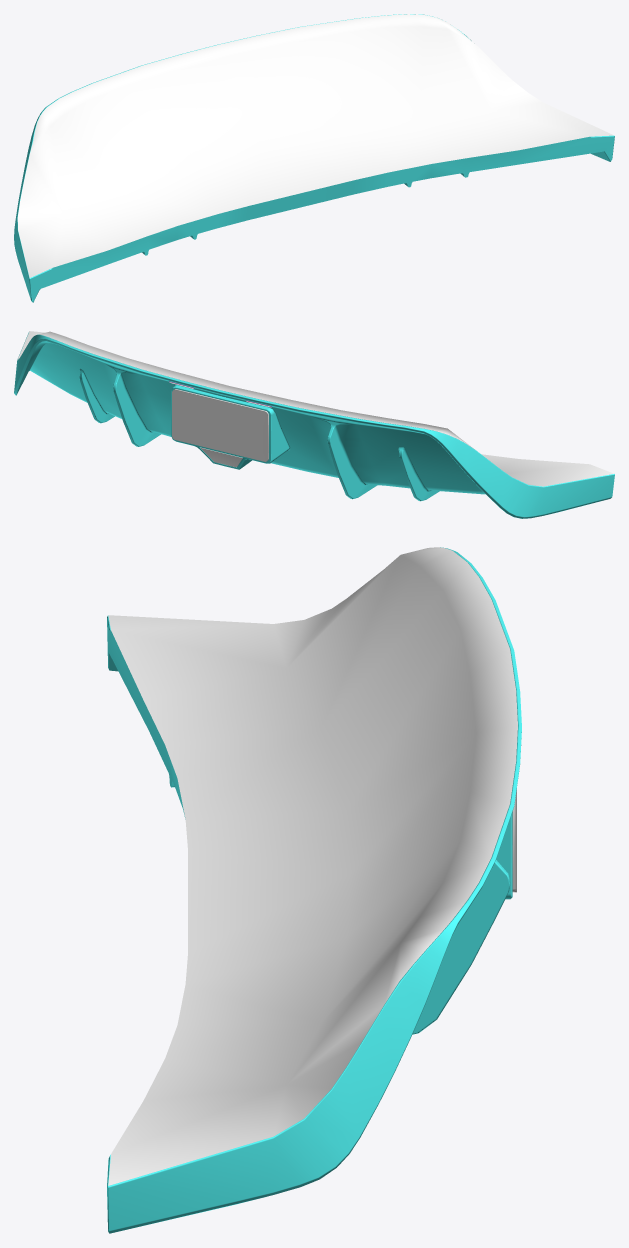
Rendered from Car_Ford_GT_2017_Diffuser_SetB.fbx.
3 views of the same model, one above another, from view 1: azimuth 30°, elevation 25°; view 2: azimuth 150°, elevation 25°; view 3: azimuth 270°, elevation 25° (orthographic). The views are drawn at different scales.
Visible parts, largest first — view 1: Diffuser 6; view 2: Diffuser 6; view 3: Diffuser 6.
Boxes of the visible parts, x1,y1,x2,y2 form: Diffuser 6: (14, 14, 614, 302); Diffuser 6: (14, 331, 614, 518); Diffuser 6: (107, 547, 521, 1233).
Bounding box in the file's own units: 1.86 × 0.3436 × 0.5708.
